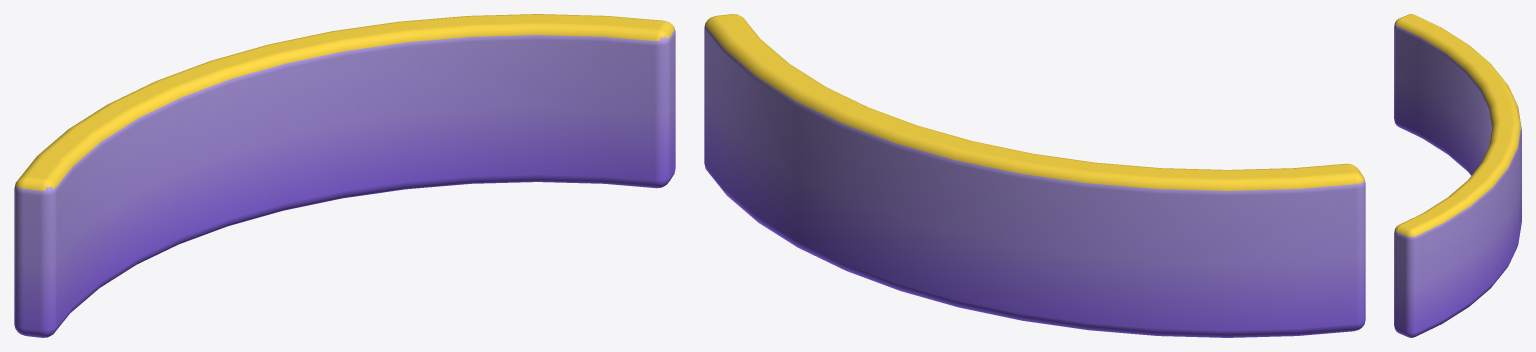
The model's file is curved_wall_r6_90deg_h2.glb.
3 views of the same model, side by side, from view 1: azimuth 30°, elevation 25°; view 2: azimuth 150°, elevation 25°; view 3: azimuth 270°, elevation 25° (orthographic). The views are drawn at different scales.
Visible parts, largest first — view 1: curved_wall_r6_90deg_h2; view 2: curved_wall_r6_90deg_h2; view 3: curved_wall_r6_90deg_h2.
Boxes of the visible parts, <box> form: curved_wall_r6_90deg_h2: <box>14,14,675,337</box>; curved_wall_r6_90deg_h2: <box>704,14,1365,337</box>; curved_wall_r6_90deg_h2: <box>1394,14,1521,337</box>.
Bounding box in the file's own units: 8.71 × 2 × 2.12.
Materials: 1 (1 with a texture image).
